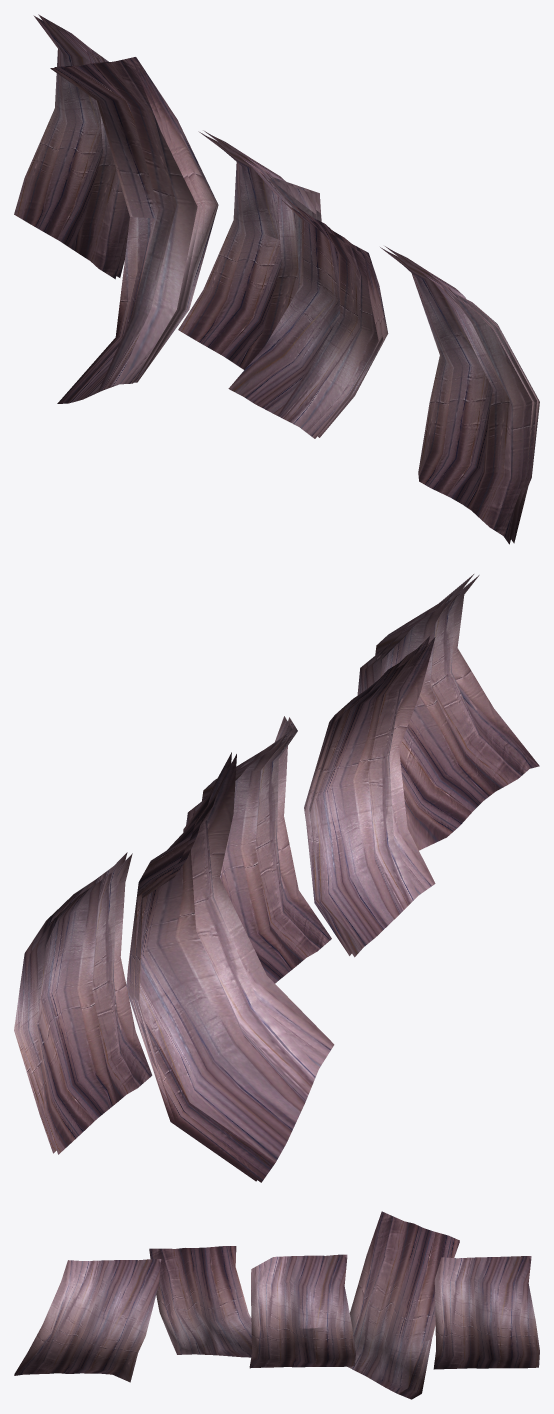
The model's file is M_Home_Garden_Curtain_03.fbx.
3 views of the same model, one above another, from view 1: azimuth 30°, elevation 25°; view 2: azimuth 150°, elevation 25°; view 3: azimuth 270°, elevation 25° (orthographic). The views are drawn at different scales.
Parts seen in each view (by area): view 1: M_Home_Garden_Curtain_03; view 2: M_Home_Garden_Curtain_03; view 3: M_Home_Garden_Curtain_03.
Boxes of the visible parts, left/top/right/bottom form: M_Home_Garden_Curtain_03: left=14, top=14, right=539, bottom=544; M_Home_Garden_Curtain_03: left=14, top=574, right=539, bottom=1182; M_Home_Garden_Curtain_03: left=14, top=1211, right=539, bottom=1399.
Size of the model in its own units: 128 by 255 by 606.
